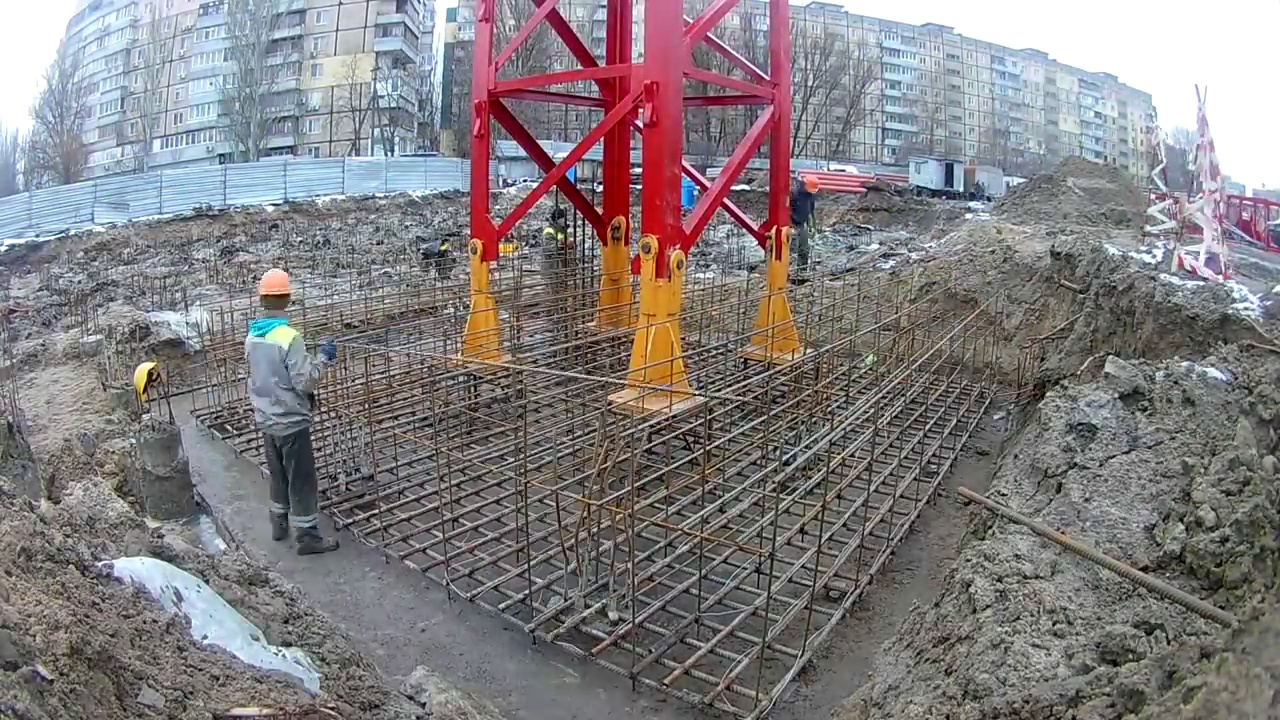helmet: (256, 265, 292, 299), (133, 363, 159, 401), (802, 174, 820, 194)
helmet-off: (551, 208, 566, 229)
helmet-on: (255, 265, 293, 316), (802, 174, 820, 195)
person: (245, 266, 340, 556), (789, 175, 820, 285), (543, 208, 578, 259)
